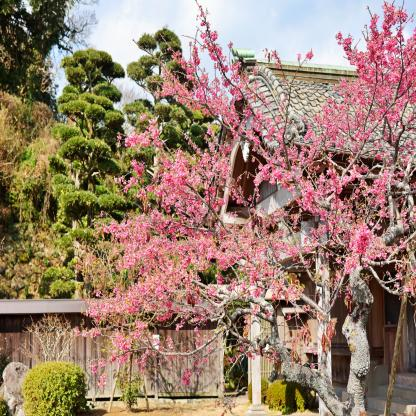KanhiSakura: (79, 0, 415, 416)
